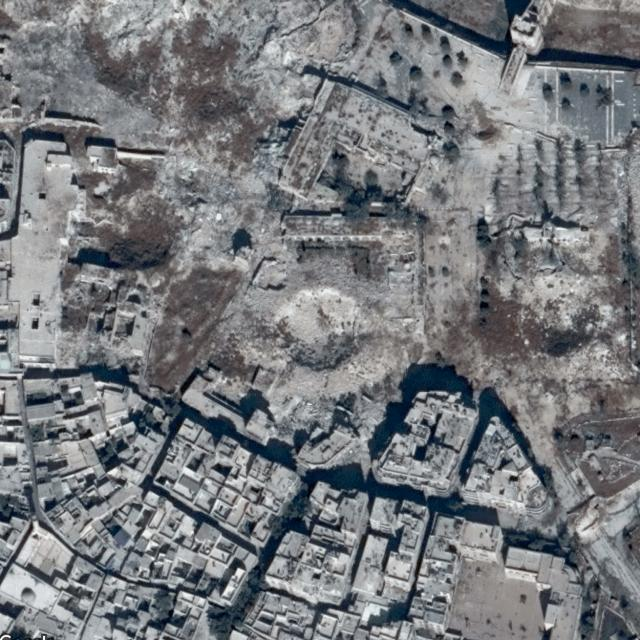damaged_building: (57, 0, 428, 484), (490, 210, 617, 366), (411, 98, 505, 162)
